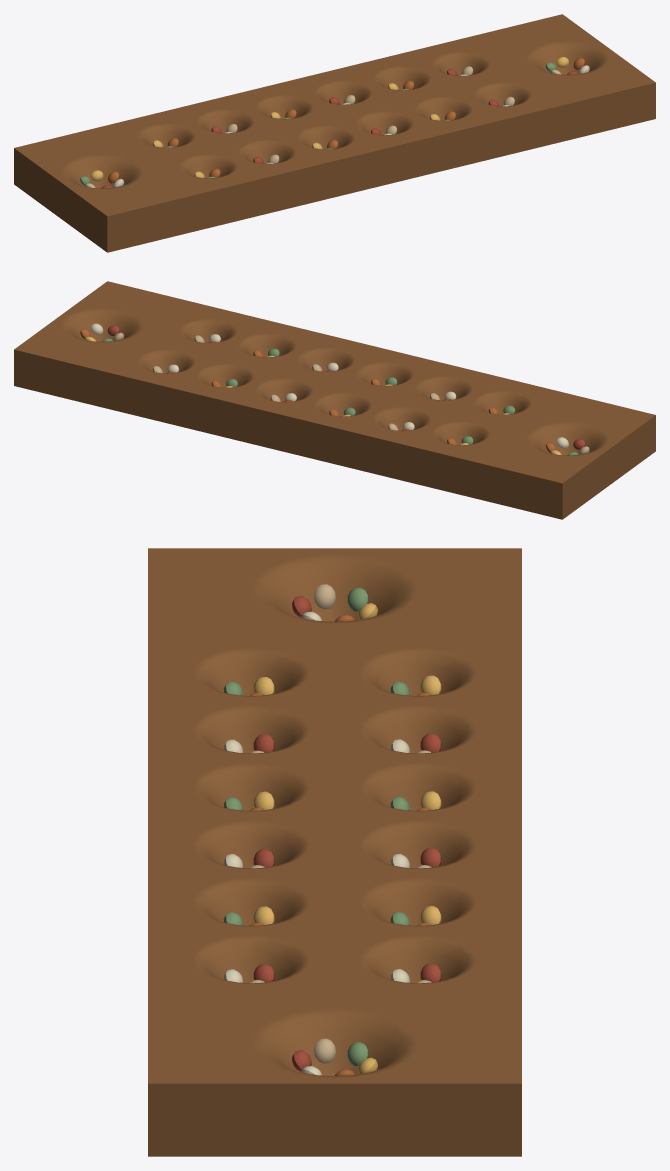
3 renders of one model, top to bottom at view 1: azimuth 30°, elevation 25°; view 2: azimuth 150°, elevation 25°; view 3: azimuth 270°, elevation 25°, orthographic. The views are drawn at different scales.
Parts seen in each view (by area): view 1: Whole solid mancala board; view 2: Whole solid mancala board; view 3: Whole solid mancala board.
Boxes of the visible parts, x1,y1,x2,y2 form: Whole solid mancala board: (14, 14, 655, 252); Whole solid mancala board: (14, 281, 655, 519); Whole solid mancala board: (148, 548, 521, 1156).
Bounding box in the file's own units: 0.41 × 0.026 × 0.121.
